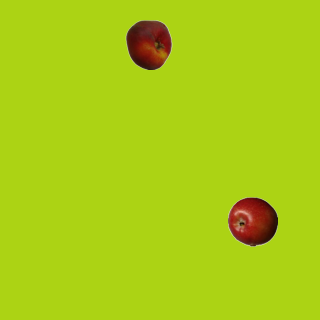Apple Braeburn: (227, 196, 277, 246)
Nectarine Flat: (123, 19, 173, 69)
